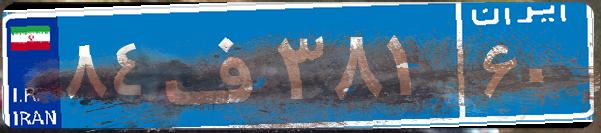0: (525, 38, 570, 115)
1: (385, 28, 445, 110)
3: (273, 28, 330, 110)
4: (110, 28, 158, 105)
6: (475, 38, 525, 113)
8: (330, 28, 385, 110), (57, 26, 110, 107)
ف: (158, 15, 273, 115)
